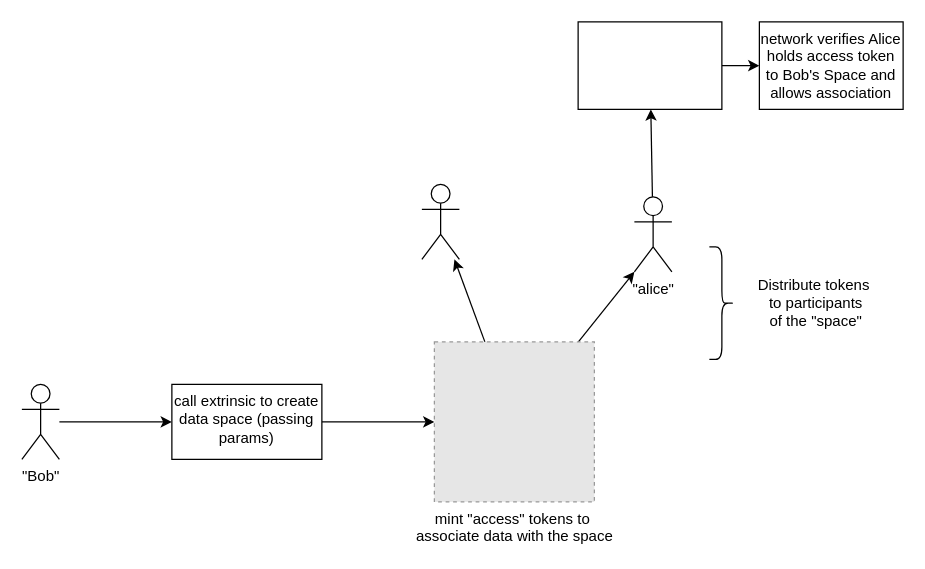
Some shapes in this 925 by 569 pixel diagram are drawn without their labels. Grey dashed boxes stand in for pictures. Here are the shapes that lost their labels. From the top down, the centre of each, then its label:
(x=649, y=65): Start data ingestion workflow, specify inclusion into "Bob's Space"
(x=440, y=221): "charlie"
